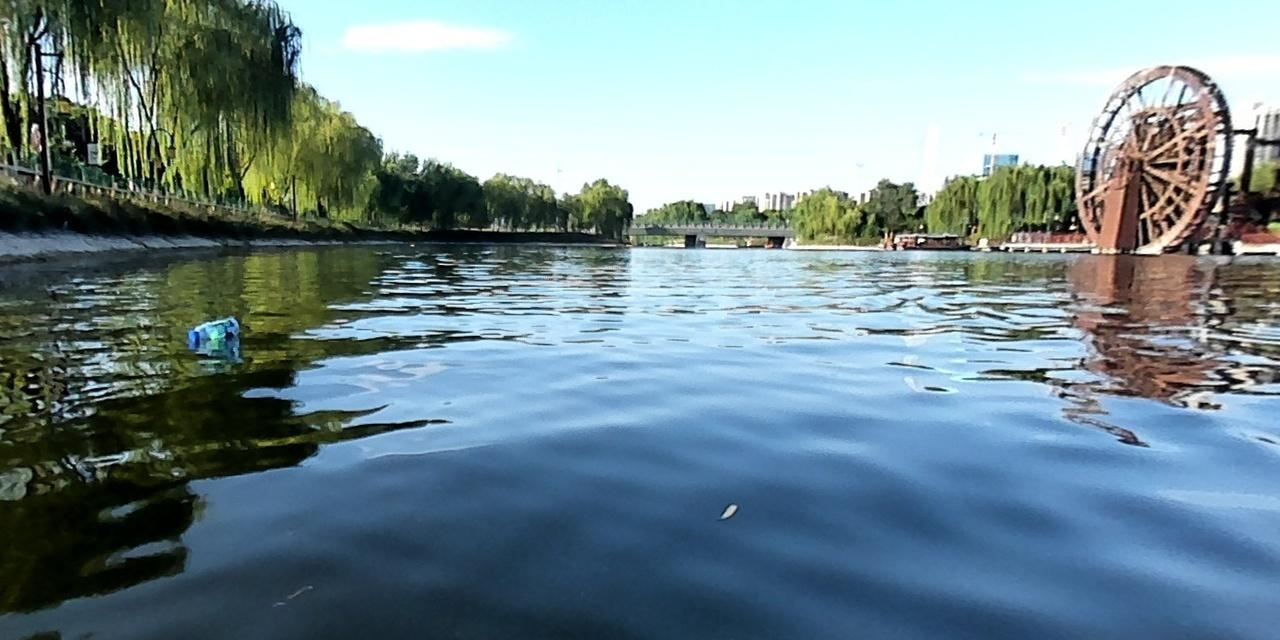bottle: (186, 312, 243, 345)
